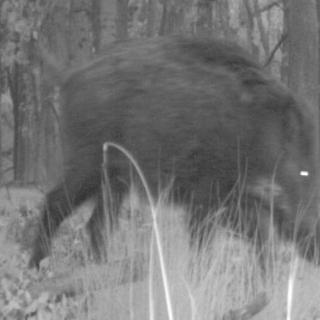Pig: (33, 36, 320, 284)
